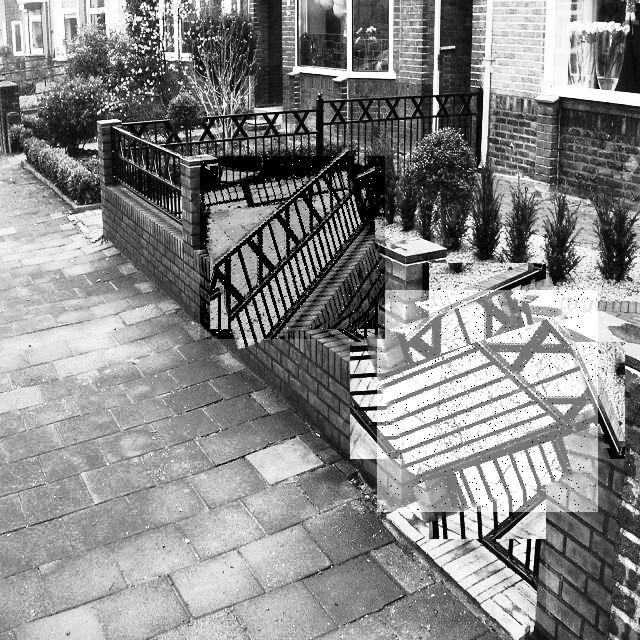fences: (377, 290, 598, 512), (200, 156, 385, 339)
